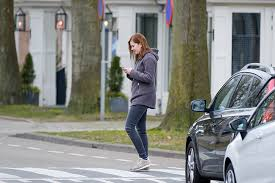pedestrian: (112, 33, 171, 177)
